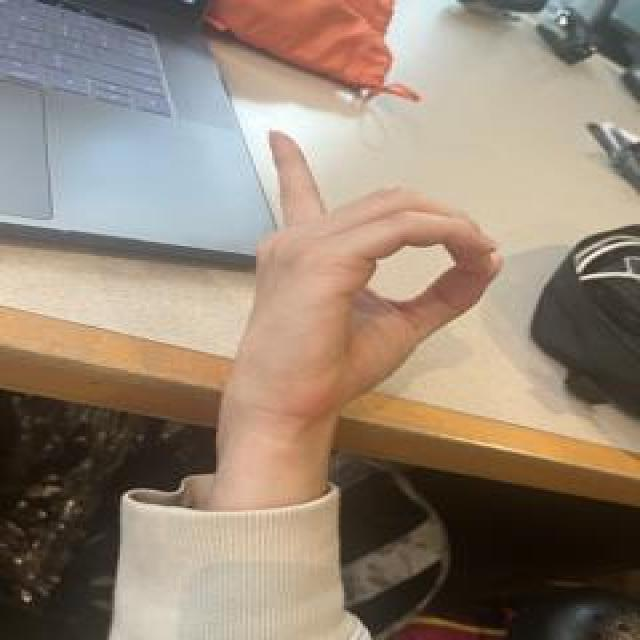D: (216, 123, 509, 425)
